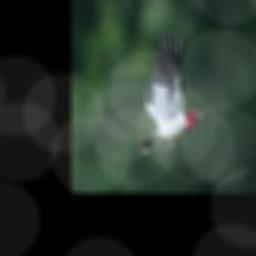Woodpecker: (137, 28, 205, 153)
